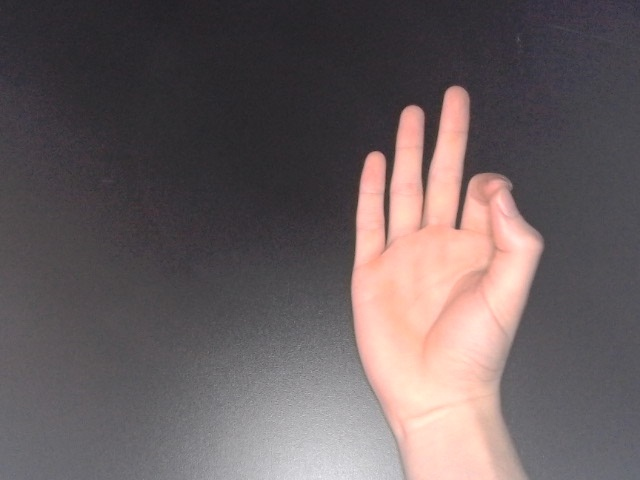f: (345, 82, 550, 434)
